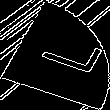L_NW: (16, 30, 94, 80)
